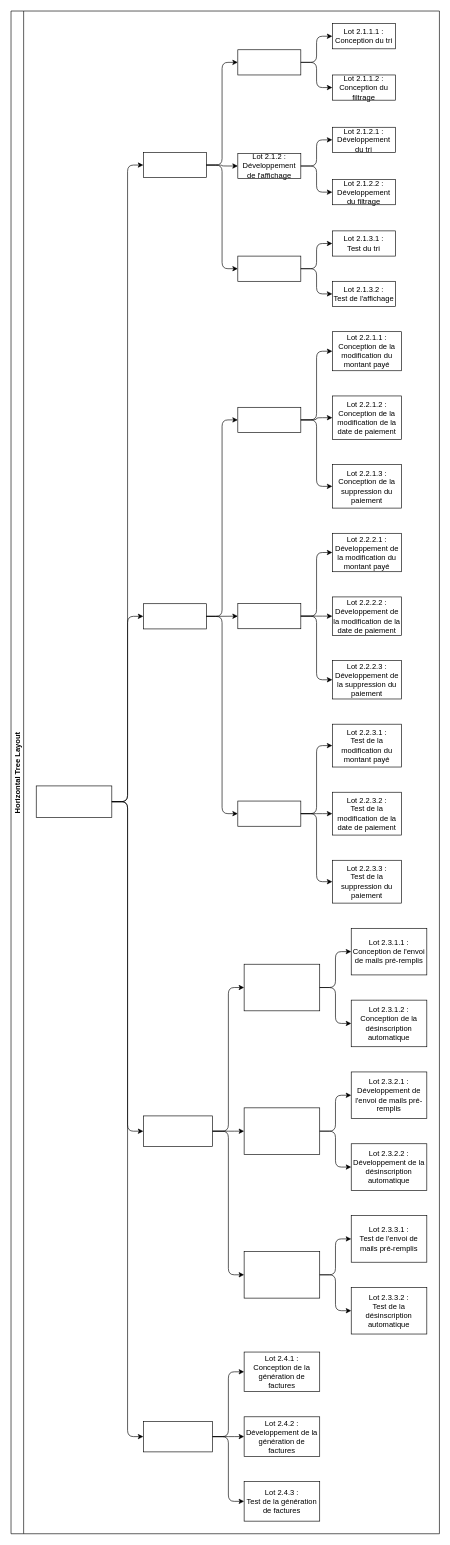
This 450x1545 diagram has some shape labels left out. The shapes that lost their labels are listed below. From the top down, each one's centre as x and y in pixels, then its label:
At (269,62): "Lot 2.1.1 : Conception de l'affichage".
At (174,165): "Lot 2.1 : Affichage des inscrits".
At (269,268): "Lot 2.1.3 : Test de l'affichage".
At (269,419): "Lot 2.2.1 : Conception de la gestion".
At (174,616): "Lot 2.2 : Gestion".
At (269,616): "Lot 2.2.2 : Développement de la gestion".
At (74,801): "Lot 2 : Gestion des membres (suivi des paiements)".
At (269,813): "Lot 2.2.3 : Test de la gestion".
At (281,987): "Lot 2.3.1 : Conception des rappels de paiements".
At (178,1130): "Lot 2.3 : Rappels de paiements".
At (281,1130): "Lot 2.3.2 : Développement des rappels de paiements".
At (281,1274): "Lot 2.3.3 : Test des rappels de paiements".
At (178,1436): "Lot 2.4 : Génération de factures".
